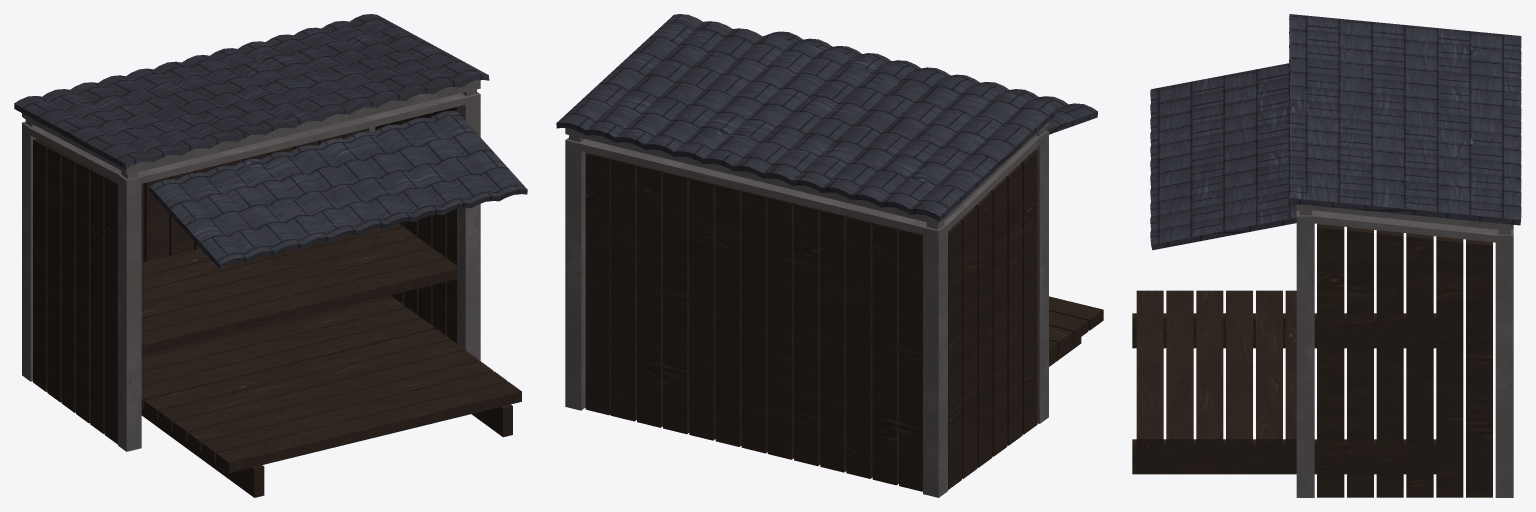
File: Stand_01.fbx
The picture shows the model from 3 angles, left to right: view 1: azimuth 30°, elevation 25°; view 2: azimuth 150°, elevation 25°; view 3: azimuth 270°, elevation 25°; orthographic projection. The views are drawn at different scales.
Parts seen in each view (by area): view 1: Plane.109, Plane.114, Plane.029, Plane.111, Plane.112, Plane.110, Plane.108, Plane.113, Plane.031, Plane.037, Plane.116, Plane.115; view 2: Plane.037, Plane.110, Plane.108, Plane.029, Plane.112, Plane.109, Plane.114; view 3: Plane.031, Plane.114, Plane.110, Plane.109, Plane.108, Plane.029, Plane.115, Plane.116.
Part boxes in pixels (x1,y1,x2,y2): Plane.109: (149, 111, 527, 269); Plane.114: (144, 329, 521, 472); Plane.029: (22, 80, 480, 451); Plane.111: (141, 223, 456, 355); Plane.112: (33, 139, 117, 444); Plane.110: (14, 55, 321, 169); Plane.108: (210, 14, 489, 121); Plane.113: (141, 295, 434, 409); Plane.031: (375, 107, 456, 343); Plane.037: (141, 129, 366, 262); Plane.116: (141, 409, 264, 497); Plane.115: (471, 404, 512, 437); Plane.037: (585, 152, 922, 491); Plane.110: (733, 57, 1057, 221); Plane.108: (556, 14, 850, 171); Plane.029: (565, 122, 1048, 497); Plane.112: (948, 149, 1037, 489); Plane.109: (764, 31, 1097, 134); Plane.114: (1049, 296, 1103, 360); Plane.031: (1317, 224, 1492, 497); Plane.114: (1136, 290, 1296, 449); Plane.110: (1289, 14, 1521, 134); Plane.109: (1150, 63, 1296, 250); Plane.108: (1289, 113, 1521, 225); Plane.029: (1296, 204, 1513, 497); Plane.115: (1132, 439, 1436, 474); Plane.116: (1132, 313, 1436, 348).
Size of the model in its own units: 401 by 311 by 358.
